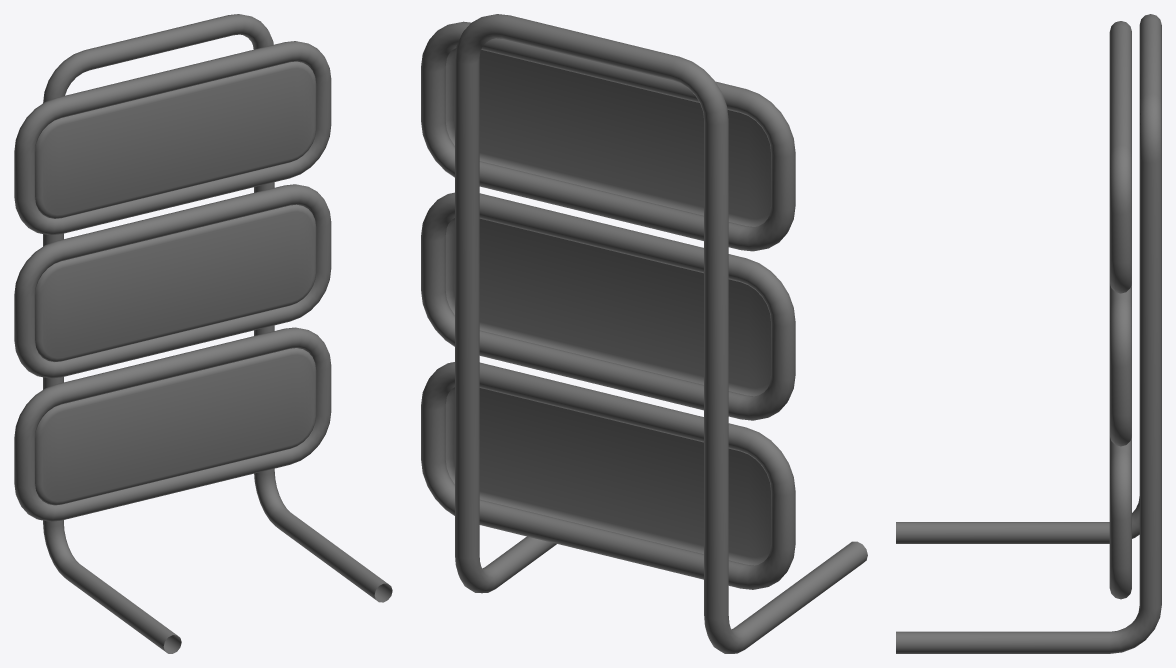
File: menuextra.fbx
3 renders of one model, left to right at view 1: azimuth 30°, elevation 25°; view 2: azimuth 150°, elevation 25°; view 3: azimuth 270°, elevation 25°, orthographic. The views are drawn at different scales.
Visible parts, largest first — view 1: menuextra; view 2: menuextra; view 3: menuextra.
Boxes of the visible parts, box(x1,y1,x2,y2) form: menuextra: box(14, 14, 392, 653); menuextra: box(421, 14, 867, 653); menuextra: box(896, 14, 1161, 653).
Size of the model in its own units: 37.78 by 58.34 by 25.93.
